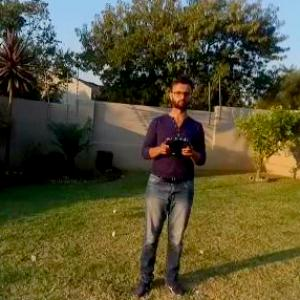follow: (129, 69, 210, 299)
